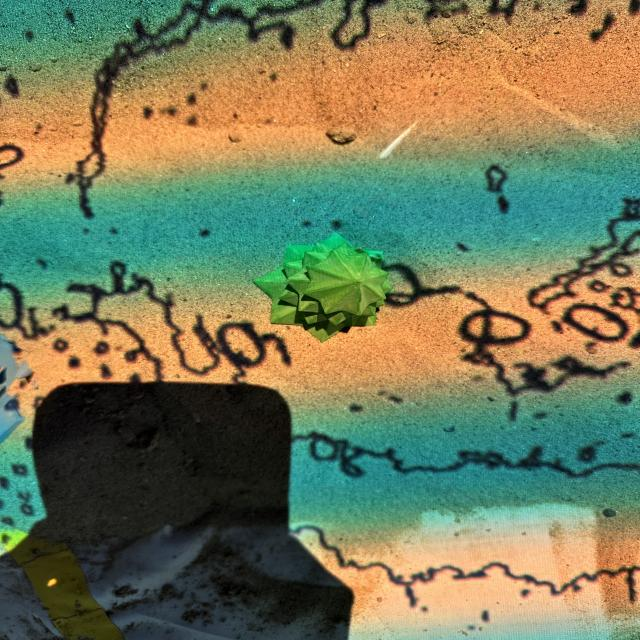tree: (254, 230, 389, 343)
